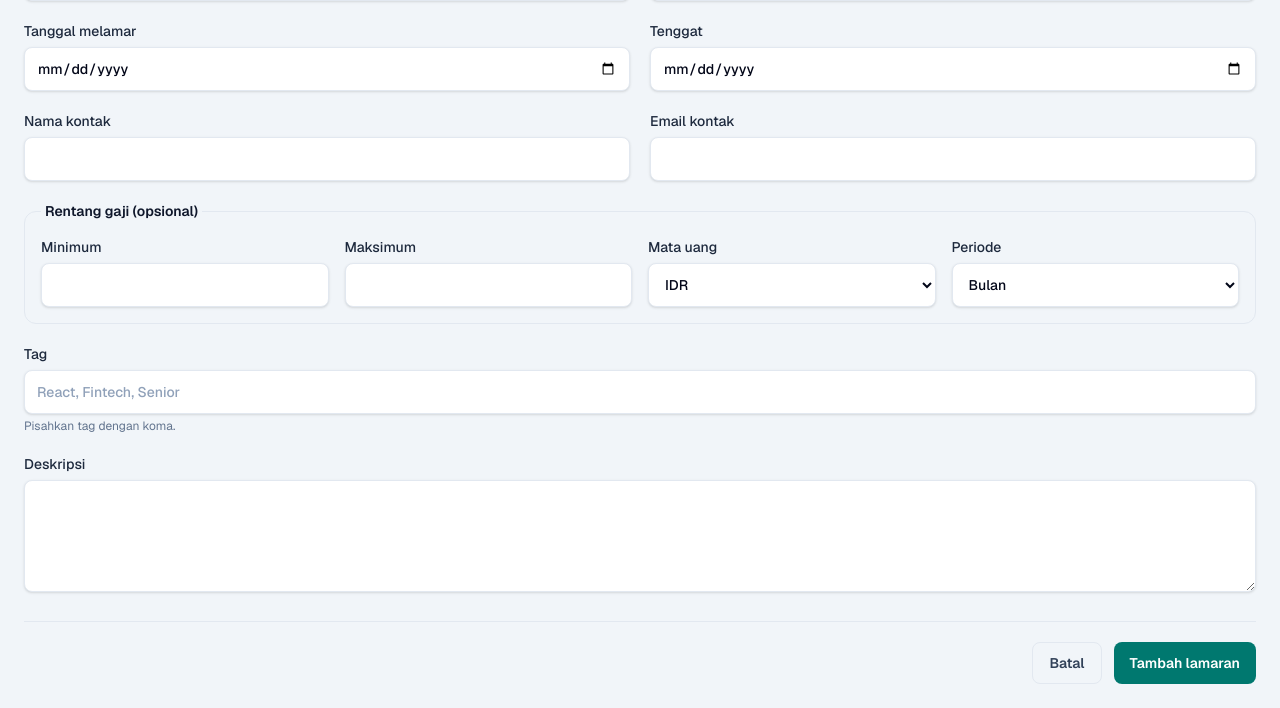
Test: ApplicationForm › exposes accessible validation errors for required fields
(page scrolled)
Click the button "Tambah lamaran".
click(1185, 663)  # box [1114,642,1256,684]
(page scrolled)
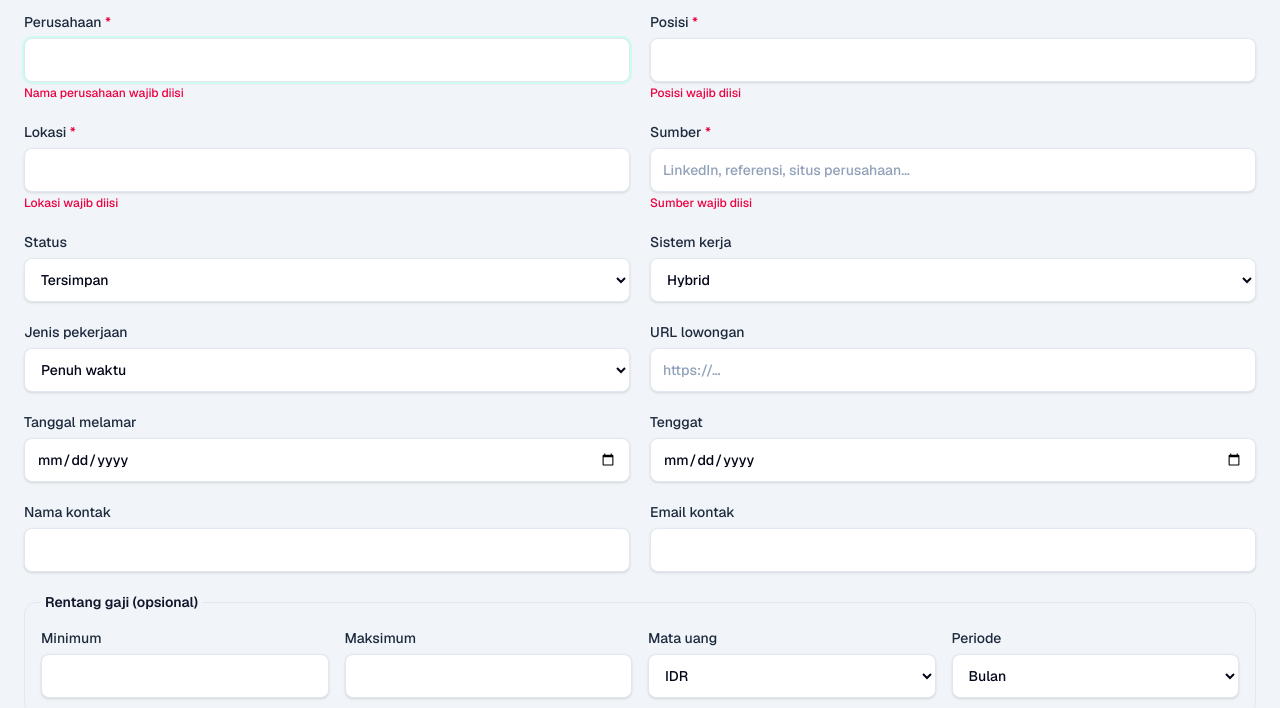
expect the text "Nama perusahaan wajib diisi" is shown: met, box [24,85,184,101]
expect the text "Posisi wajib diisi" is shown: met, box [650,85,741,101]
expect the text "Lokasi wajib diisi" is shown: met, box [24,195,118,211]
